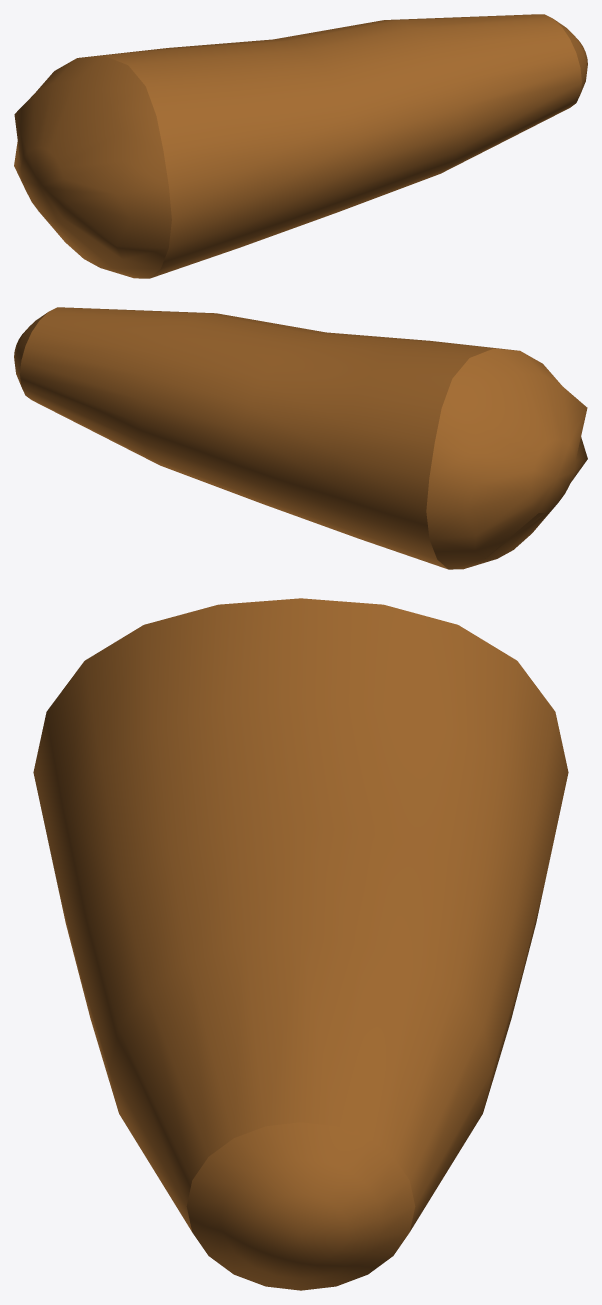
File: cha_dog_rightarm.obj
3 views of the same model, one above another, from view 1: azimuth 30°, elevation 25°; view 2: azimuth 150°, elevation 25°; view 3: azimuth 270°, elevation 25° (orthographic). The views are drawn at different scales.
Parts seen in each view (by area): view 1: cha_dog_rightarm; view 2: cha_dog_rightarm; view 3: cha_dog_rightarm.
Part boxes in pixels (x1,y1,x2,y2): cha_dog_rightarm: (14,14,587,278); cha_dog_rightarm: (14,307,587,569); cha_dog_rightarm: (33,598,568,1290).
Size of the model in its own units: 0.559 by 0.1963 by 0.2415.
